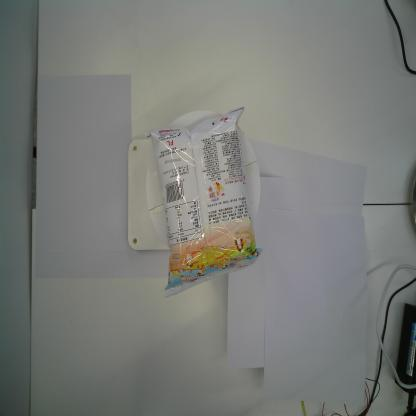Puffed Food: (146, 104, 266, 300)
